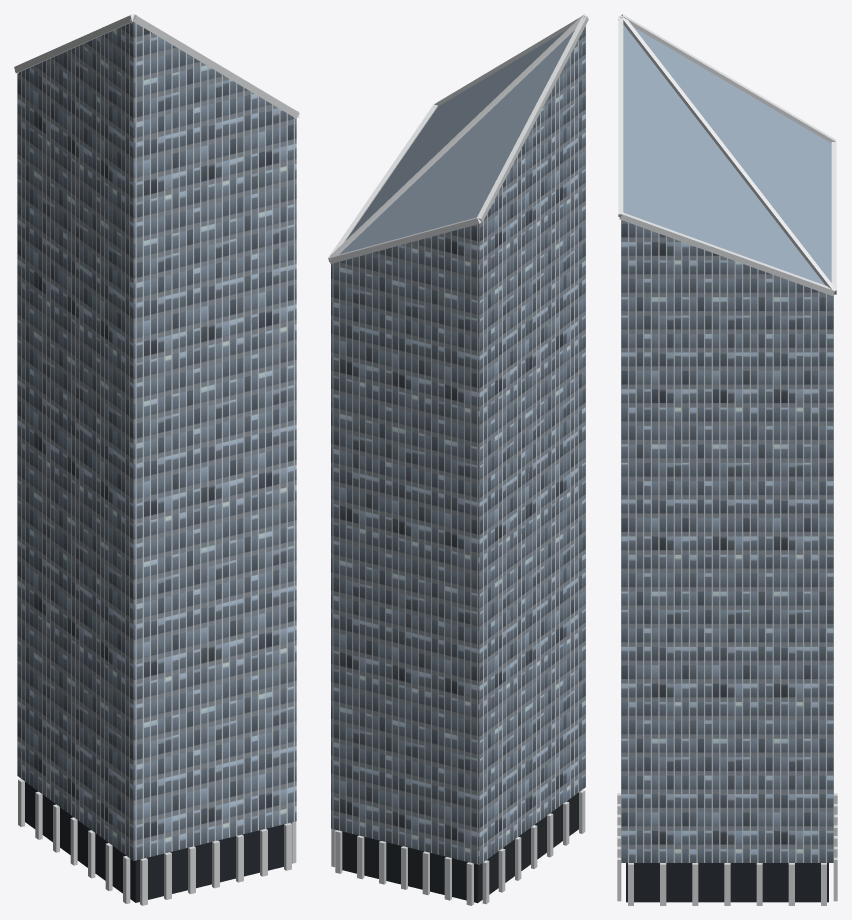
File: crain_150_n_michigan.glb
3 renders of one model, left to right at view 1: azimuth 30°, elevation 25°; view 2: azimuth 150°, elevation 25°; view 3: azimuth 270°, elevation 25°, orthographic. The views are drawn at different scales.
Visible parts, largest first — view 1: crain_150_n_michigan; view 2: crain_150_n_michigan; view 3: crain_150_n_michigan.
Part boxes in pixels (x1,y1,x2,y2): crain_150_n_michigan: [14, 14, 299, 905]; crain_150_n_michigan: [328, 14, 588, 905]; crain_150_n_michigan: [617, 14, 837, 905].
Bounding box in the file's own units: 35.4 × 178 × 43.4.
2 materials, 2 textured.
